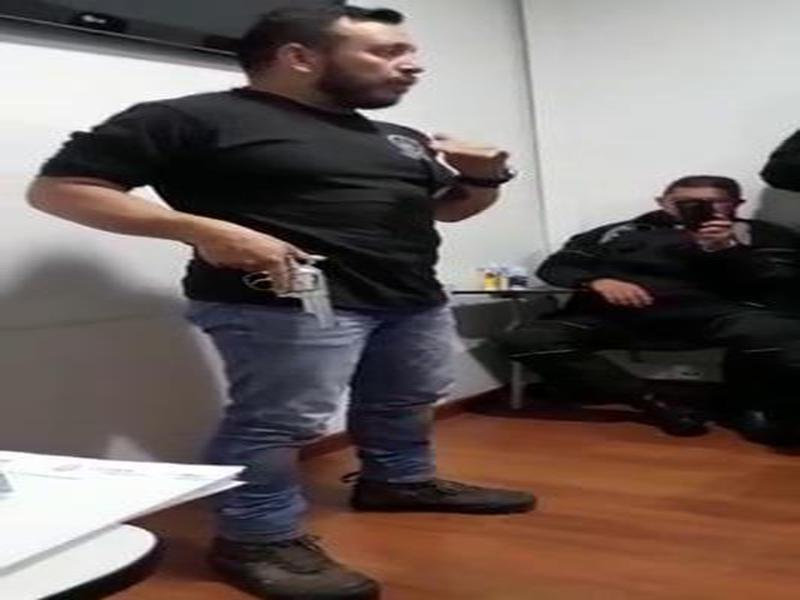Revolver: (245, 218, 345, 359)
